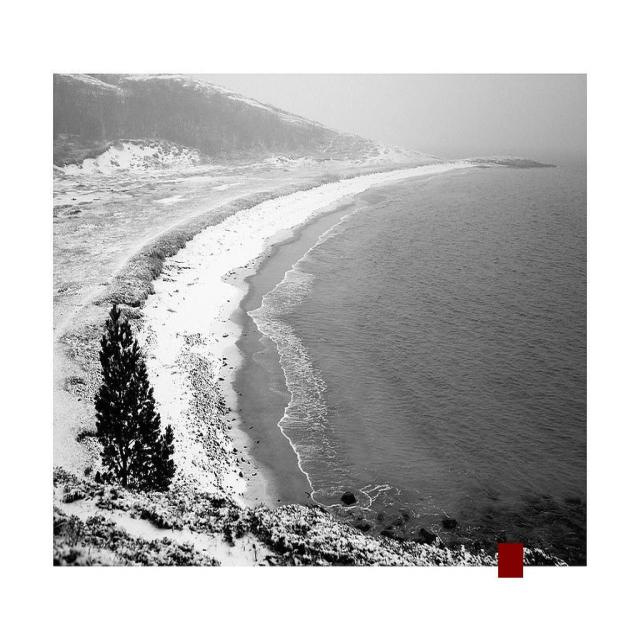RedSquare: (494, 536, 530, 586)
